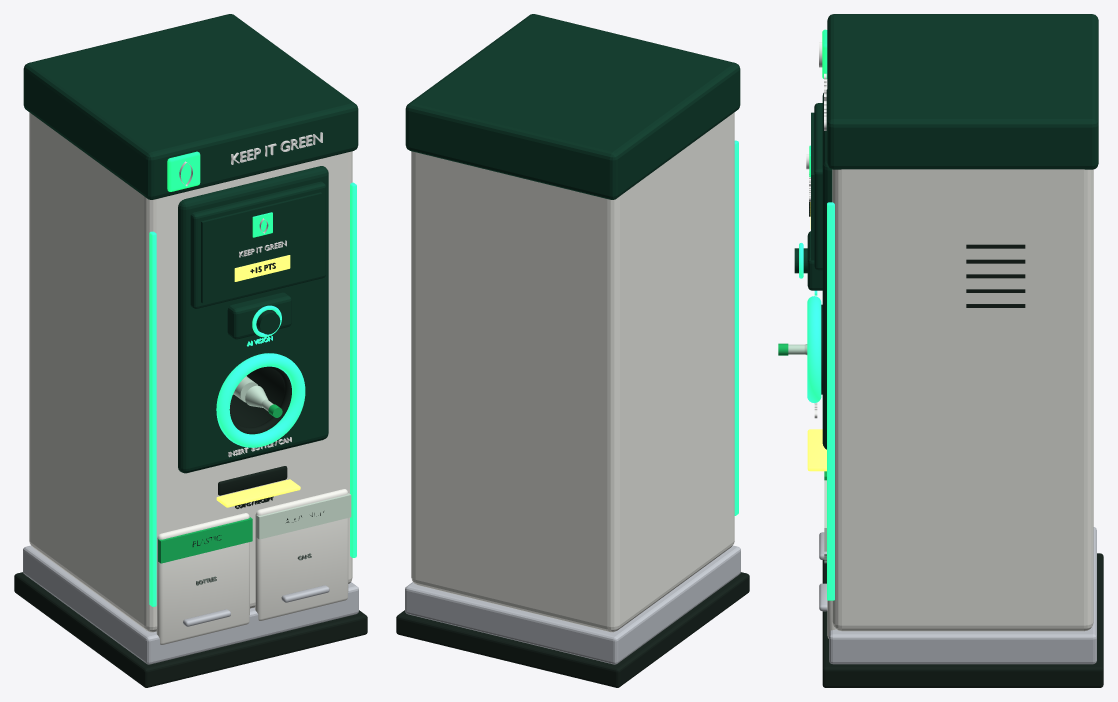
File: keep_it_green_machine.fbx
3 renders of one model, left to right at view 1: azimuth 30°, elevation 25°; view 2: azimuth 150°, elevation 25°; view 3: azimuth 270°, elevation 25°, orthographic. The views are drawn at different scales.
Parts seen in each view (by area): view 1: cabinet, crown, control_panel, screen, plinth, base, door_ALUMINUM, door_PLASTIC, intake_ring, screen_bezel, led_-1, led_1 (+10 smaller); view 2: cabinet, crown, base, plinth, led_-1; view 3: cabinet, crown, base, plinth, led_1, control_panel, intake_ring, screen_bezel, tray_lip, screen, cam_housing.
Part boxes in pixels (x1,y1,x2,y2): cabinet: (29,112,352,632); crown: (23,14,358,199); control_panel: (178,166,328,473); screen: (201,192,322,303); plinth: (14,572,367,687); base: (23,545,358,664); door_ALUMINUM: (255,489,348,620); door_PLASTIC: (156,513,249,644); intake_ring: (216,353,305,447); screen_bezel: (190,181,325,308); led_-1: (149,231,156,606); led_1: (350,182,356,557); cabinet: (411,112,734,632); crown: (405,14,740,199); base: (405,545,740,664); plinth: (396,572,749,687); led_-1: (734,140,738,515); cabinet: (832,169,1093,631); crown: (827,14,1098,169); base: (829,527,1096,664); plinth: (822,553,1103,687); led_1: (827,202,834,600); control_panel: (822,89,832,449); intake_ring: (807,296,821,403); screen_bezel: (814,103,822,270); tray_lip: (807,429,826,471); screen: (811,112,814,260); cam_housing: (807,231,822,290).
Size of the model in its own units: 84 by 191 by 99.5.
